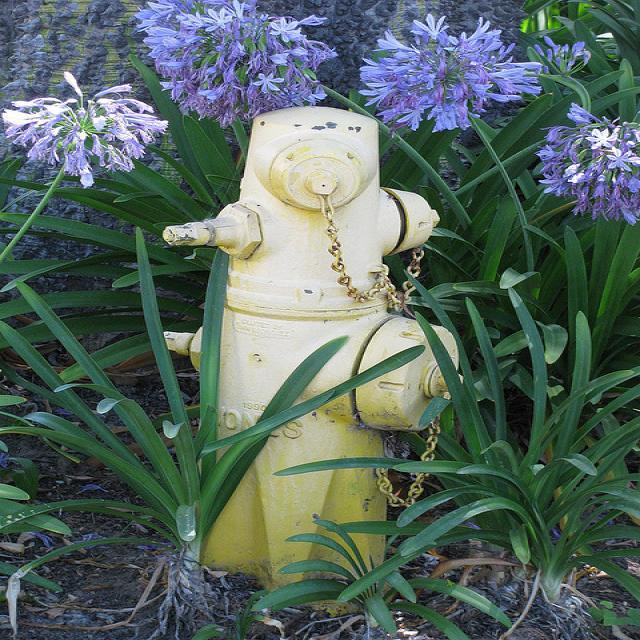fire_hydrant: (164, 101, 467, 612)
